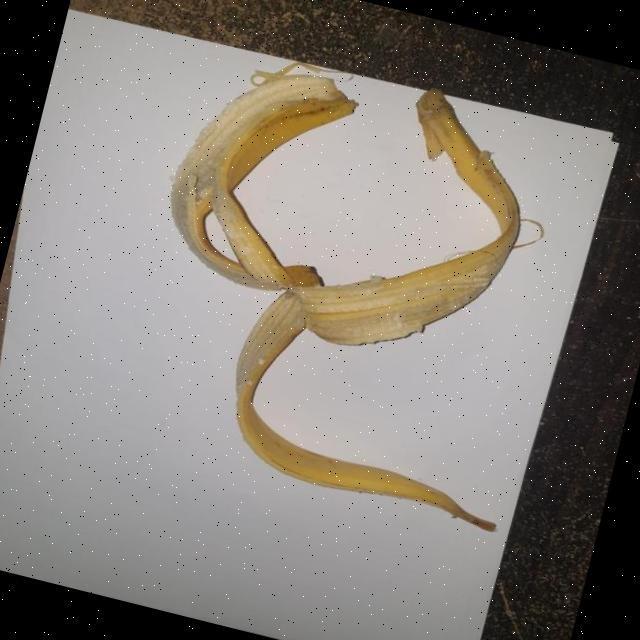banana-peel: (107, 31, 596, 534)
